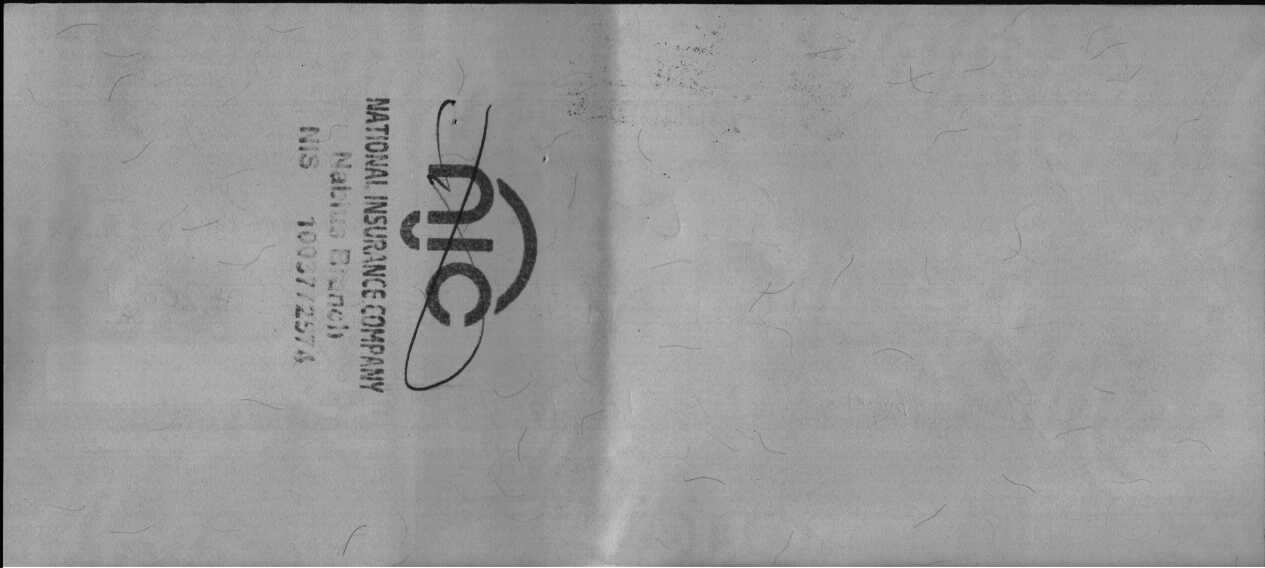stamp: (288, 90, 543, 404)
